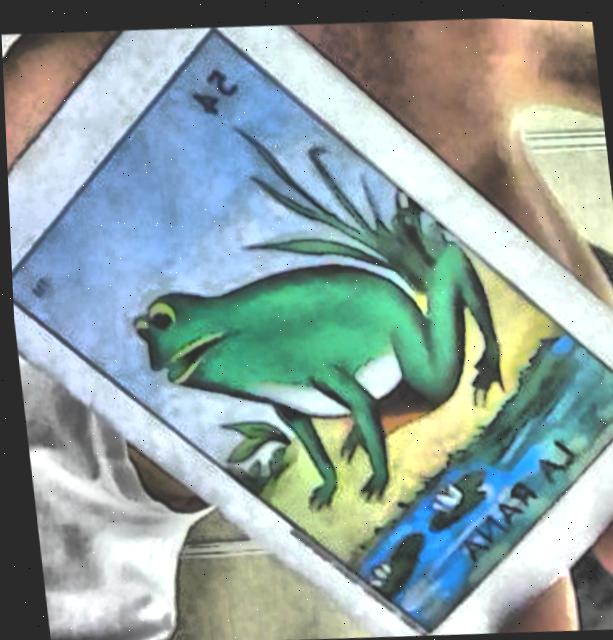La Rana: (10, 29, 613, 629)
